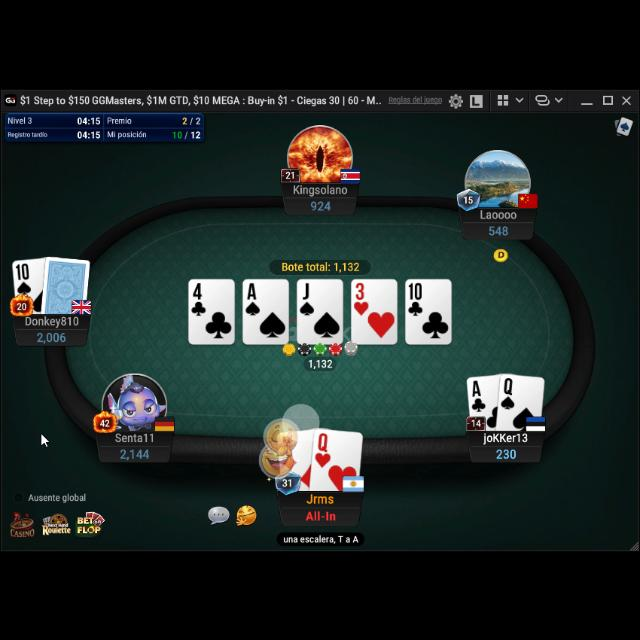3h: (352, 278, 370, 316)
4c: (191, 278, 209, 316)
Ac: (468, 376, 488, 412)
As: (244, 280, 262, 314)
Js: (298, 279, 316, 315)
Qh: (314, 429, 332, 467)
Qs: (499, 373, 517, 409)
Tc: (407, 280, 425, 316)
Ts: (14, 260, 34, 294)
all_in_symbol: (304, 506, 336, 520)
bet_text: (306, 356, 336, 368)
card_back: (41, 252, 93, 314)
dealer: (492, 244, 510, 262)
pot_text: (278, 258, 362, 272)
stack_text: (116, 444, 152, 458), (36, 328, 68, 342), (308, 196, 334, 210), (494, 444, 518, 458), (486, 222, 512, 234)
